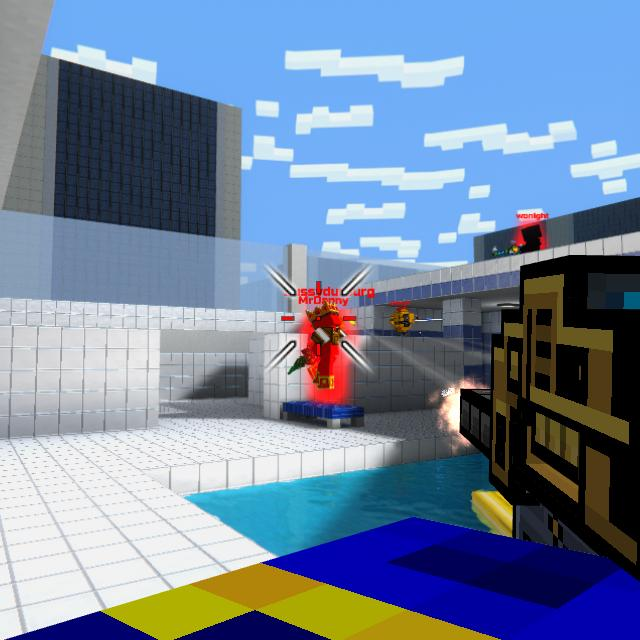Enemy: (306, 302, 344, 389), (516, 225, 542, 253)
